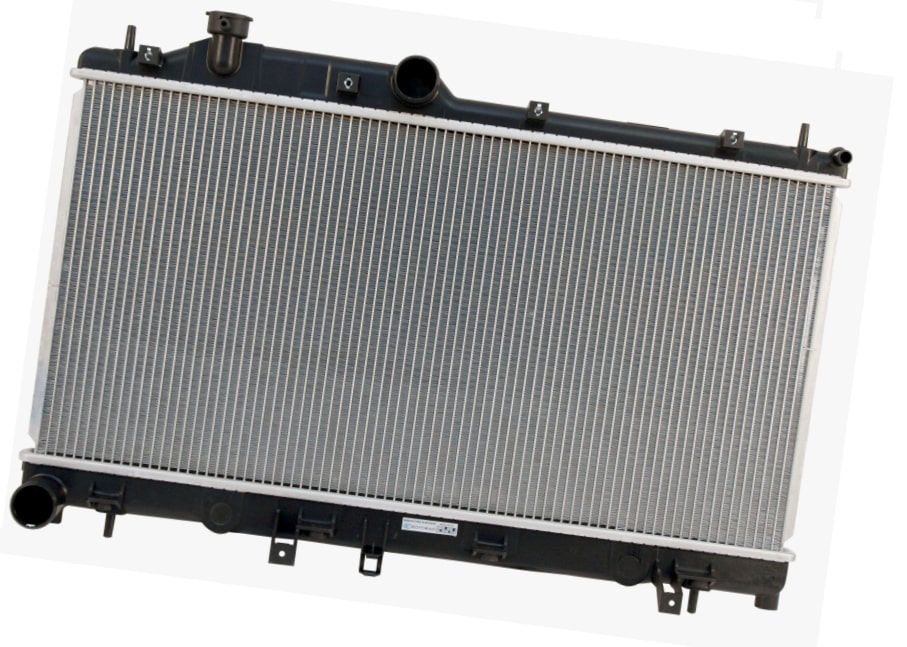c1: (123, 20, 164, 74)
c10: (207, 498, 235, 530)
c11: (266, 503, 340, 566)
c12: (354, 515, 388, 577)
c13: (469, 527, 512, 566)
c14: (651, 558, 719, 617)
c2: (205, 8, 255, 81)
c3: (333, 67, 361, 98)
c4: (391, 50, 442, 108)
c5: (526, 97, 552, 127)
c6: (720, 126, 748, 154)
c7: (796, 117, 855, 170)
c8: (7, 474, 67, 532)
c9: (87, 481, 124, 538)
